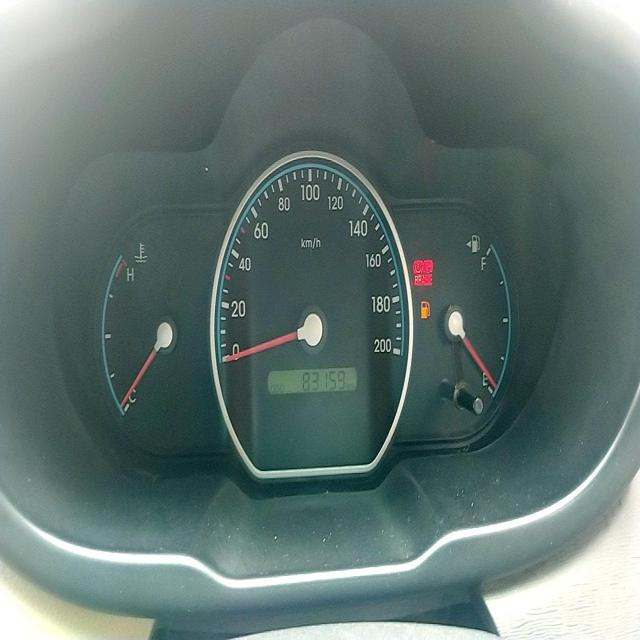odometer: (299, 367, 346, 392)
